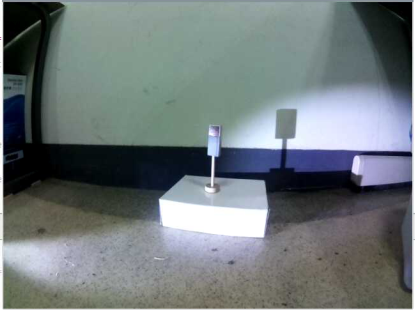Red: (205, 121, 222, 159)
